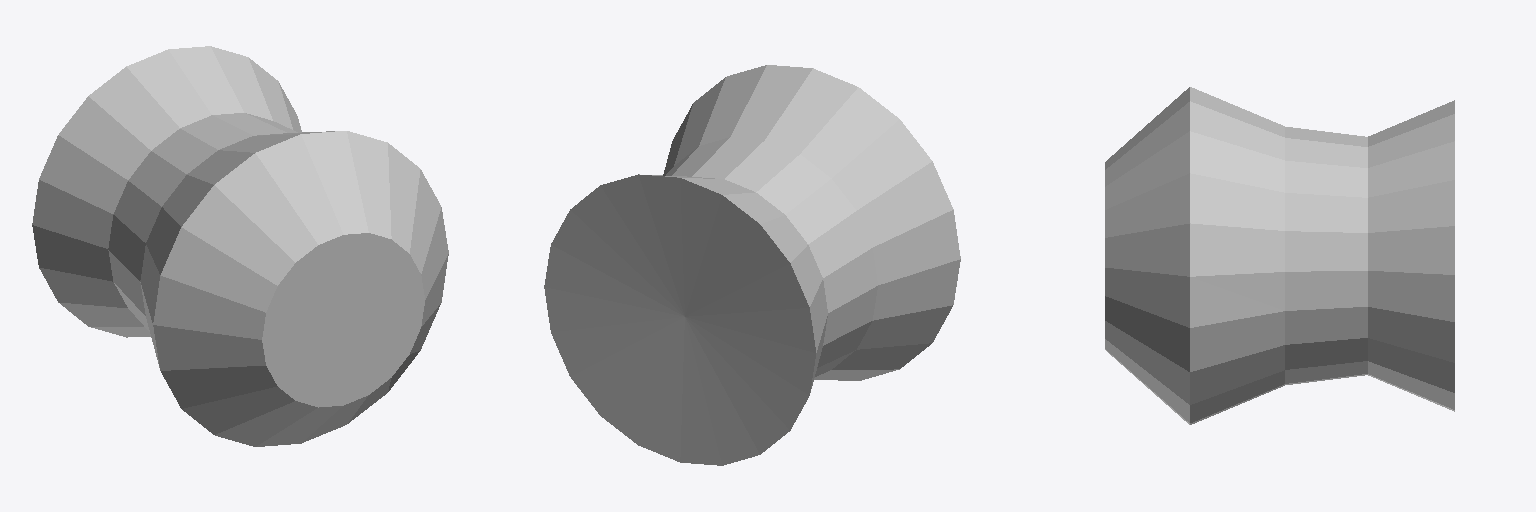
The model's file is Bumper_BotLeft.obj.
The picture shows the model from 3 angles: view 1: azimuth 30°, elevation 25°; view 2: azimuth 150°, elevation 25°; view 3: azimuth 270°, elevation 25°; orthographic projection.
Visible parts, largest first — view 1: Bumper_BotLeft; view 2: Bumper_BotLeft; view 3: Bumper_BotLeft.
Boxes of the visible parts, x1=… form: Bumper_BotLeft: x1=32, y1=46, x2=448, y2=446; Bumper_BotLeft: x1=544, y1=65, x2=960, y2=465; Bumper_BotLeft: x1=1105, y1=87, x2=1454, y2=424.
Bounding box in the file's own units: 0.166 × 0.166 × 0.1705.